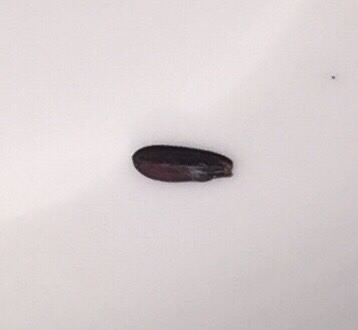Gao Nep Cam: (129, 135, 239, 189)
